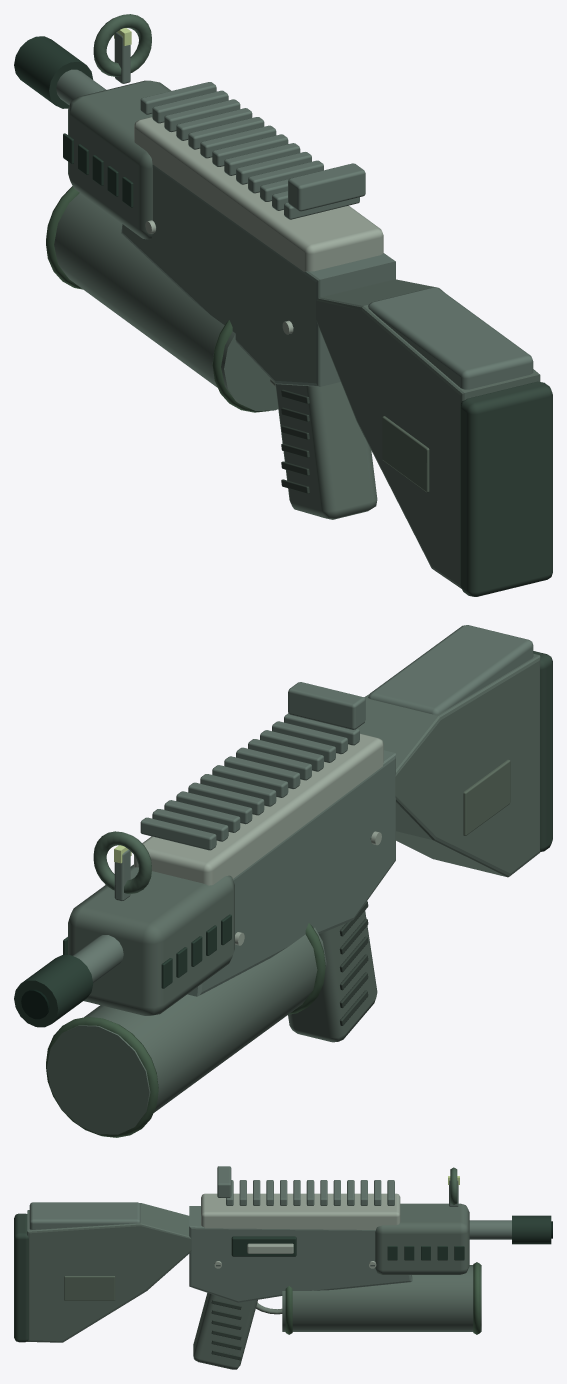
The model's file is bizon.glb.
3 renders of one model, top to bottom at view 1: azimuth 30°, elevation 25°; view 2: azimuth 150°, elevation 25°; view 3: azimuth 270°, elevation 25°, orthographic. The views are drawn at different scales.
Parts seen in each view (by area): view 1: bizon, magazine; view 2: bizon, magazine; view 3: bizon, magazine, bolt.
Part boxes in pixels (x1,y1,x2,y2): bizon: [14, 14, 552, 596]; magazine: [46, 186, 278, 412]; bizon: [14, 625, 552, 1042]; magazine: [46, 923, 326, 1137]; bizon: [14, 1166, 552, 1369]; magazine: [282, 1262, 481, 1334]; bolt: [231, 1236, 296, 1256].
Bounding box in the file's own units: 0.158 × 0.4657 × 1.16.
